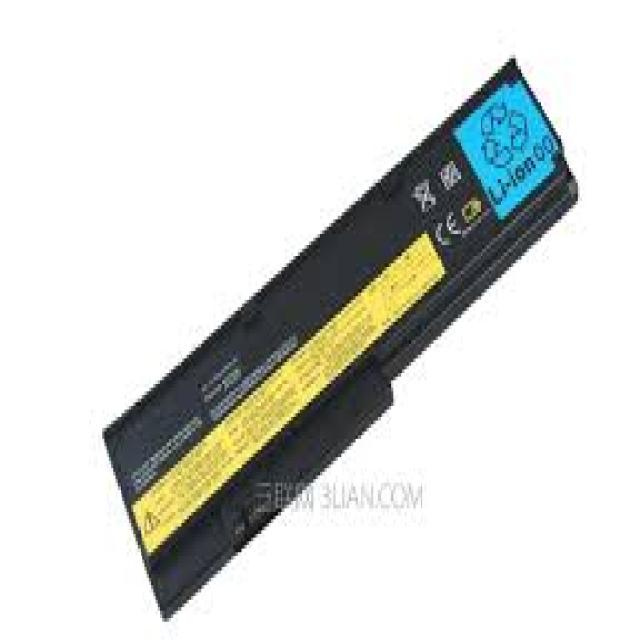non-organic waste: (102, 54, 577, 619)
